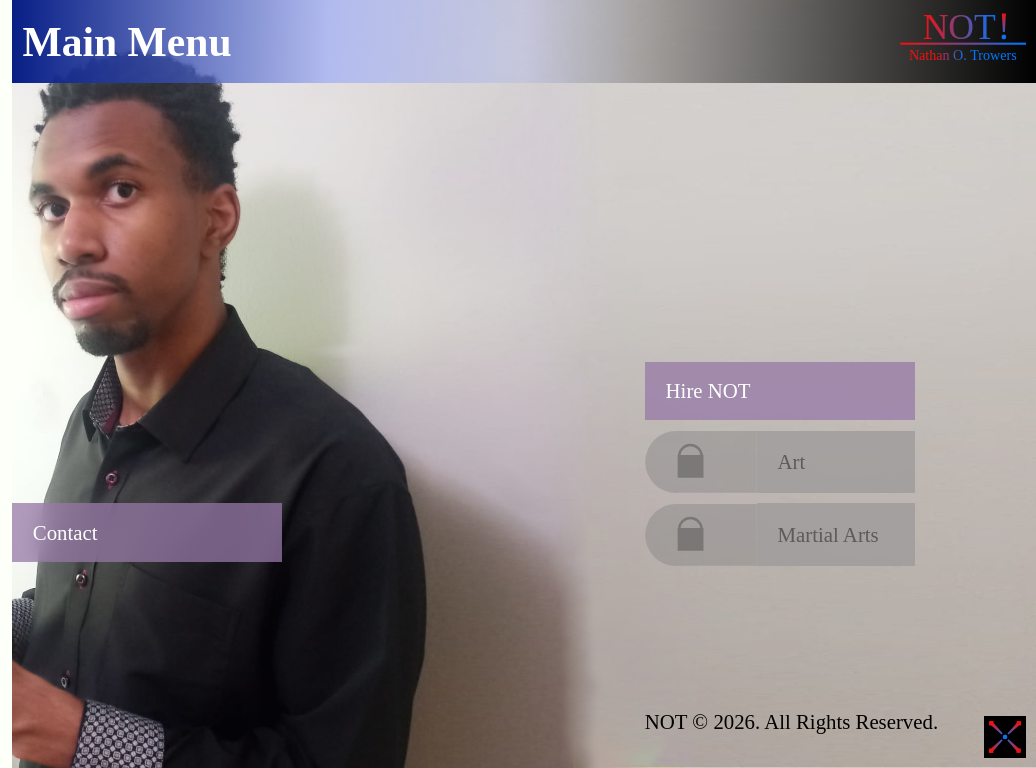
Scenario: Landing Page › loads landing page, then shows contact buttons, then returns to the previous view
This screenshot has width=1036, height=768.
Expected: the heading "Main Menu" is shown, [12,0,645,83]
Expected: the link "Hire NOT" is shown, [645,362,915,420]
What coordinates should you click on to do the following:
click the button "Contact"
I would click on:
 (65, 532)
Its box is [12,503,282,561].
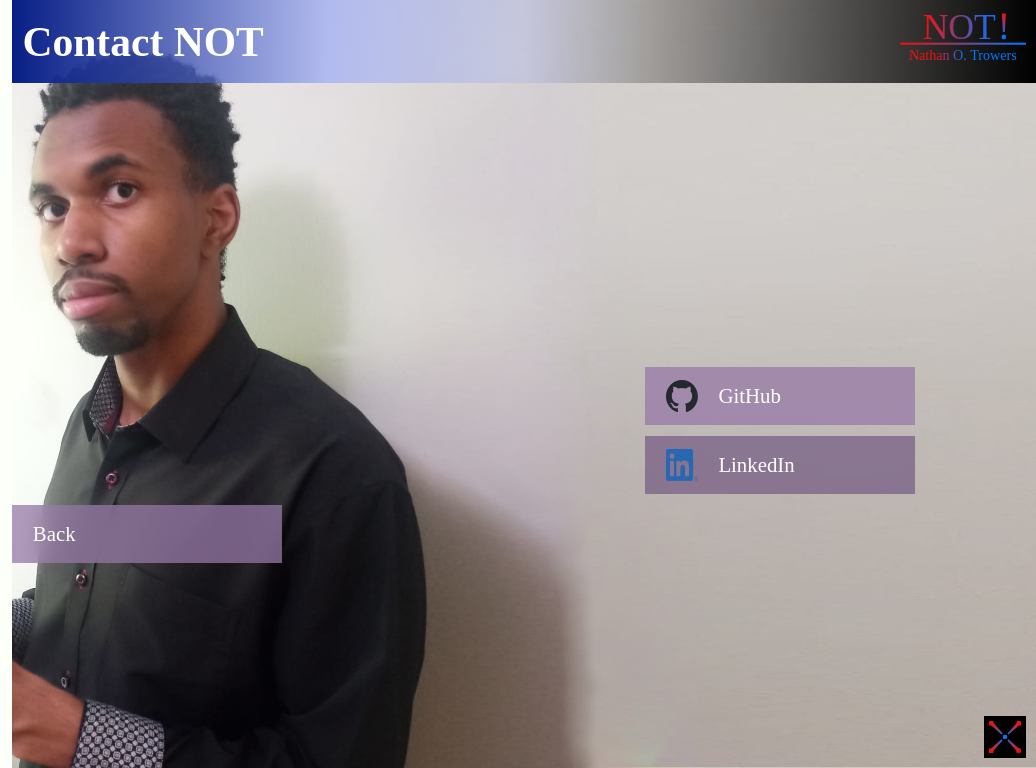
Now the heading "Contact NOT" is shown, box [12,0,645,83]
Now the link "GitHub" is shown, box [645,367,915,426]
Now the link "LinkedIn" is shown, box [645,436,915,494]
What coordinates should you click on to do the following:
click the button "Back"
I would click on:
 (54, 533)
Its box is [12,505,282,563].
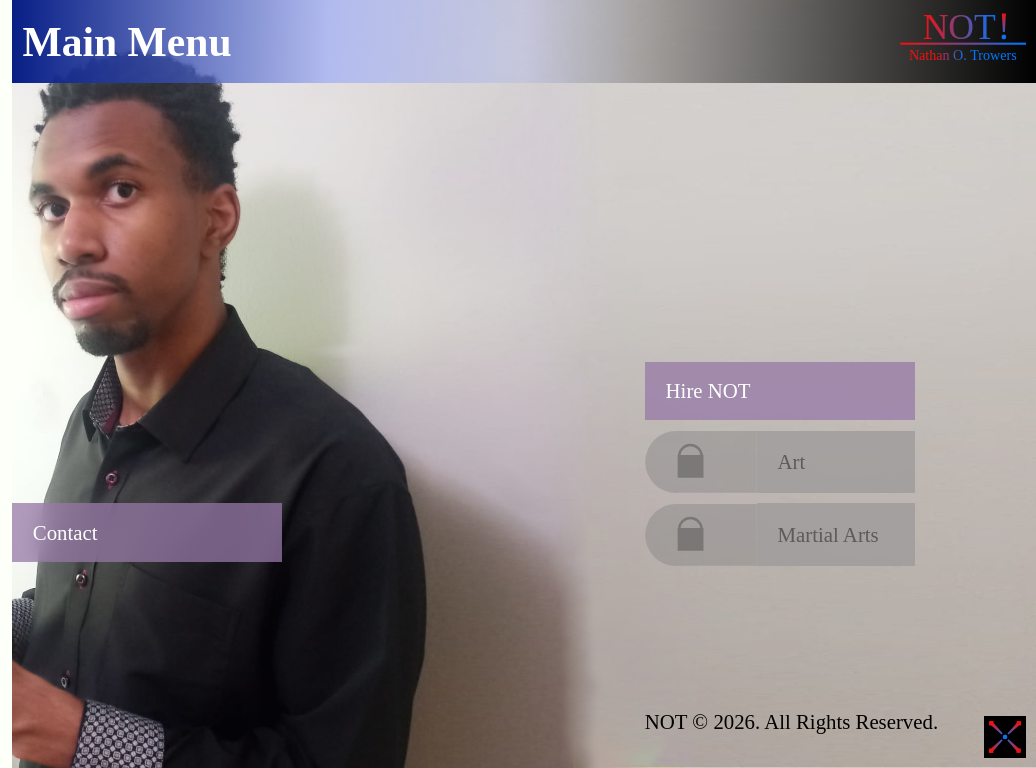
Now the heading "Main Menu" is shown, box [12,0,645,83]
Now the link "Hire NOT" is shown, box [645,362,915,420]
Now the button "Art" is shown, box [757,431,915,493]
